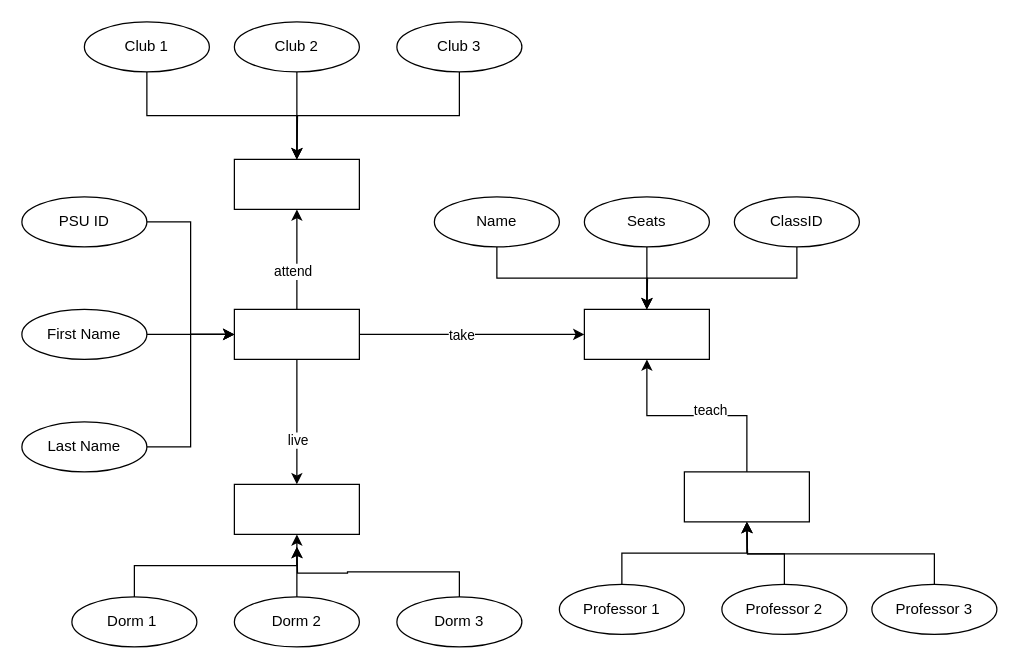
This 1019x669 diagram has some shape labels left out. Each missing label, with the centre of its shape:
Classes: point 646,333
Clubs: point 296,183
Dorms: point 296,508
Professors: point 746,496
Students: point 296,333
